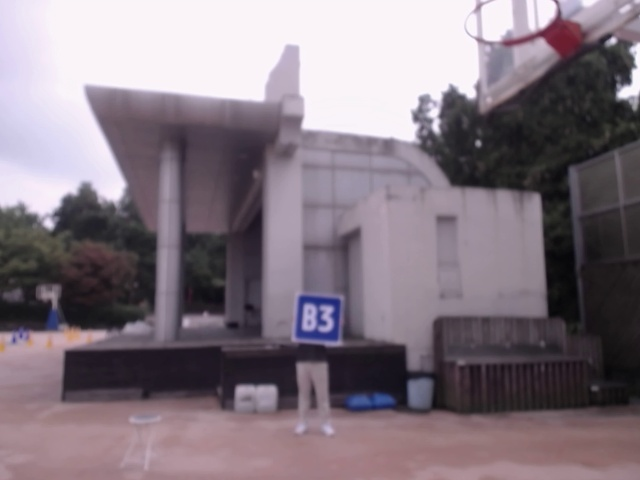delivery_b3: (294, 293, 343, 343)
